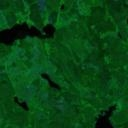alloviz: (1, 21, 57, 46), (93, 103, 117, 128), (39, 72, 62, 90), (12, 95, 29, 111)
